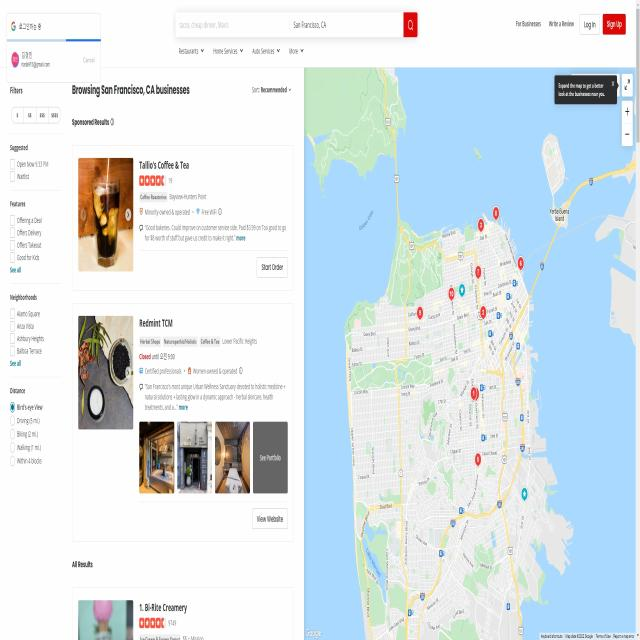menu-bar: (508, 11, 632, 41)
menu-panel: (5, 81, 70, 478)
search: (172, 5, 420, 41)
tab-bar: (176, 44, 306, 60)
